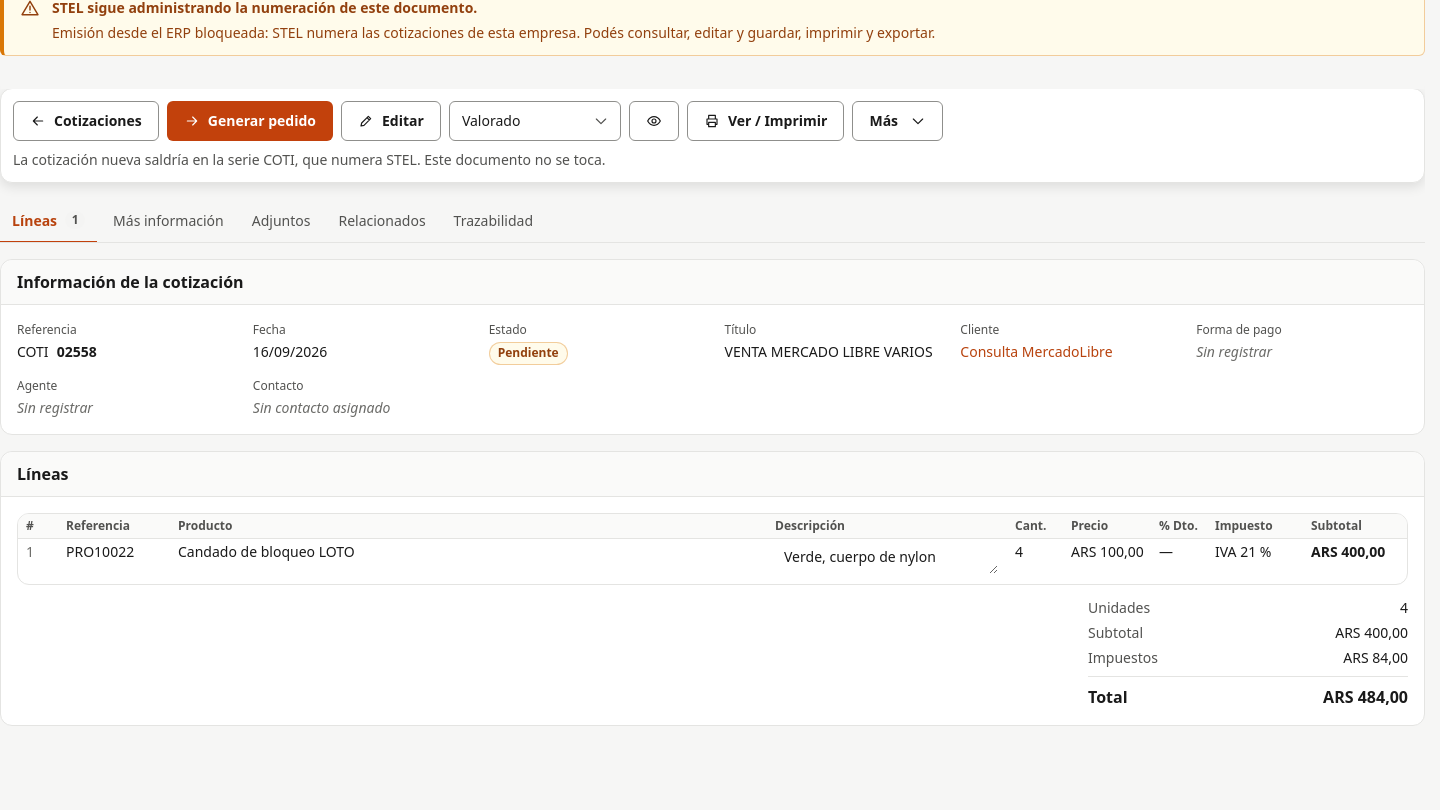
Test: Cotización · acciones › generar el pedido eligiendo la serie › con dos, pregunta en cuál: PDV preseleccionada y el confirmar bloqueado
Click the button "Generar pedido" at (250,121), box left=167, top=101, right=333, bottom=141
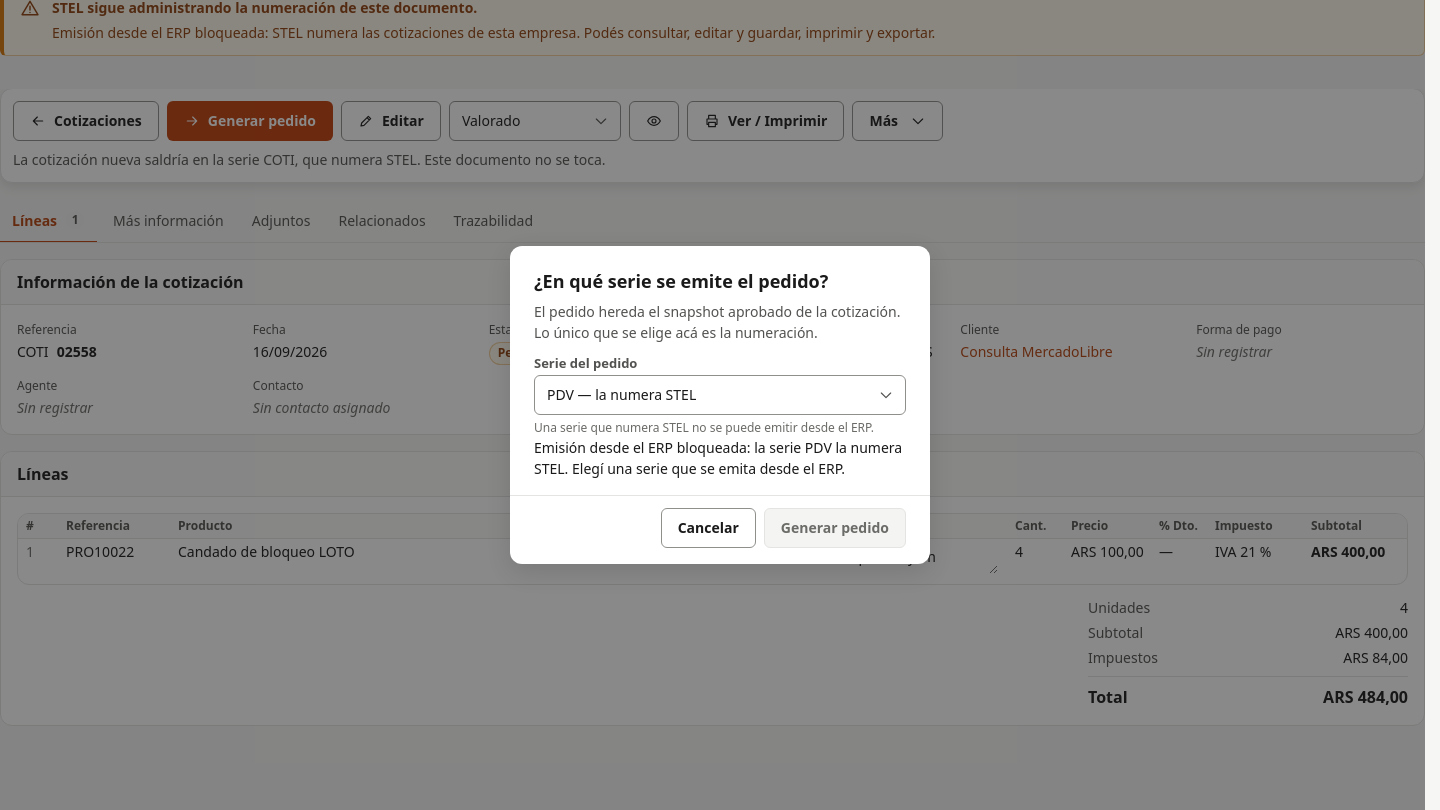
Expected: the dropdown labelled "Serie del pedido" shows "PDV — la numera STEL", left=534, top=375, right=906, bottom=415
Expected: the button "Generar pedido" is disabled, left=764, top=508, right=906, bottom=548
Expected: the text "la serie PDV la numera STEL" is shown, left=534, top=438, right=902, bottom=478
